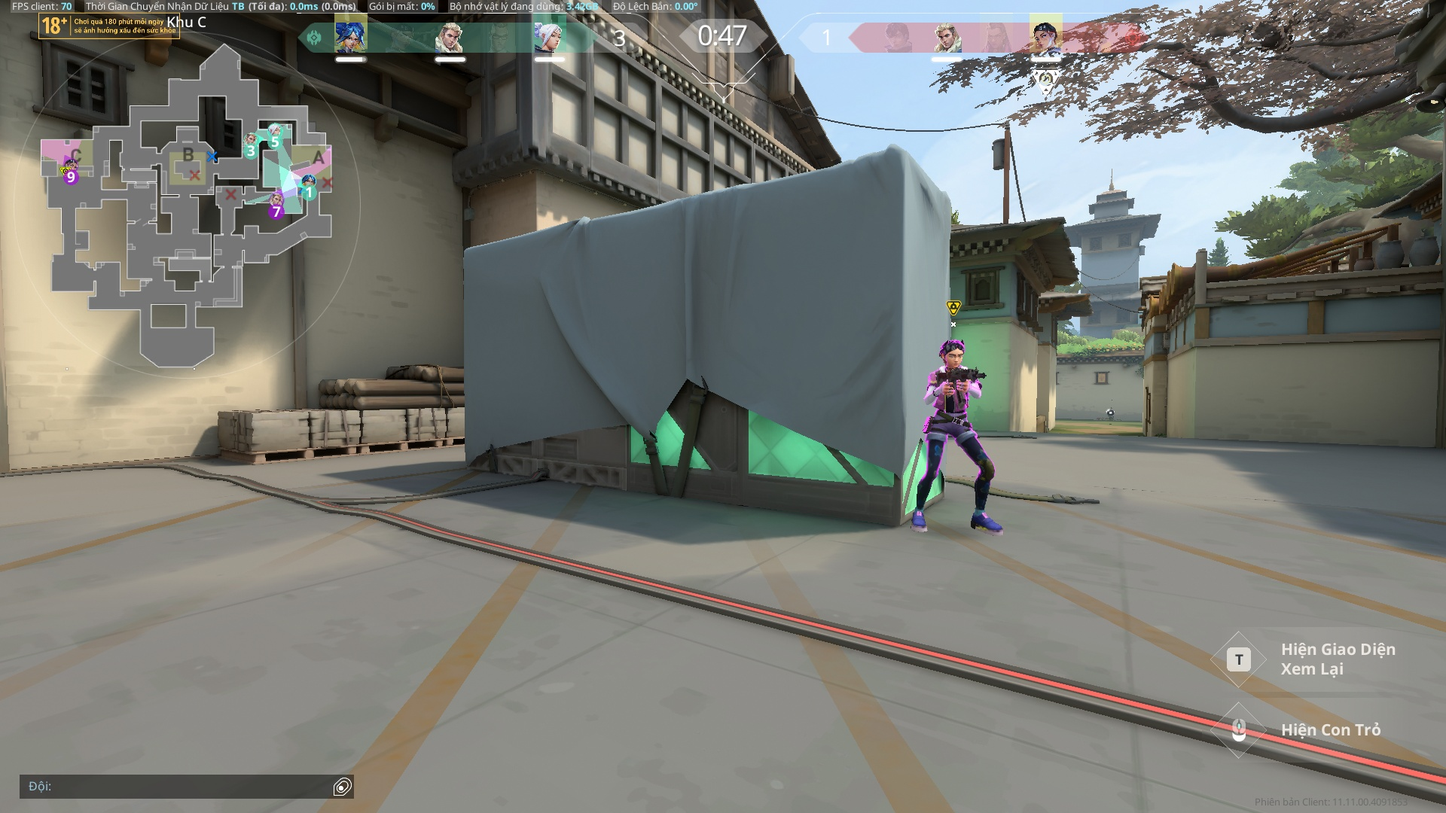body: (928, 366, 975, 412)
head: (942, 340, 965, 368)
